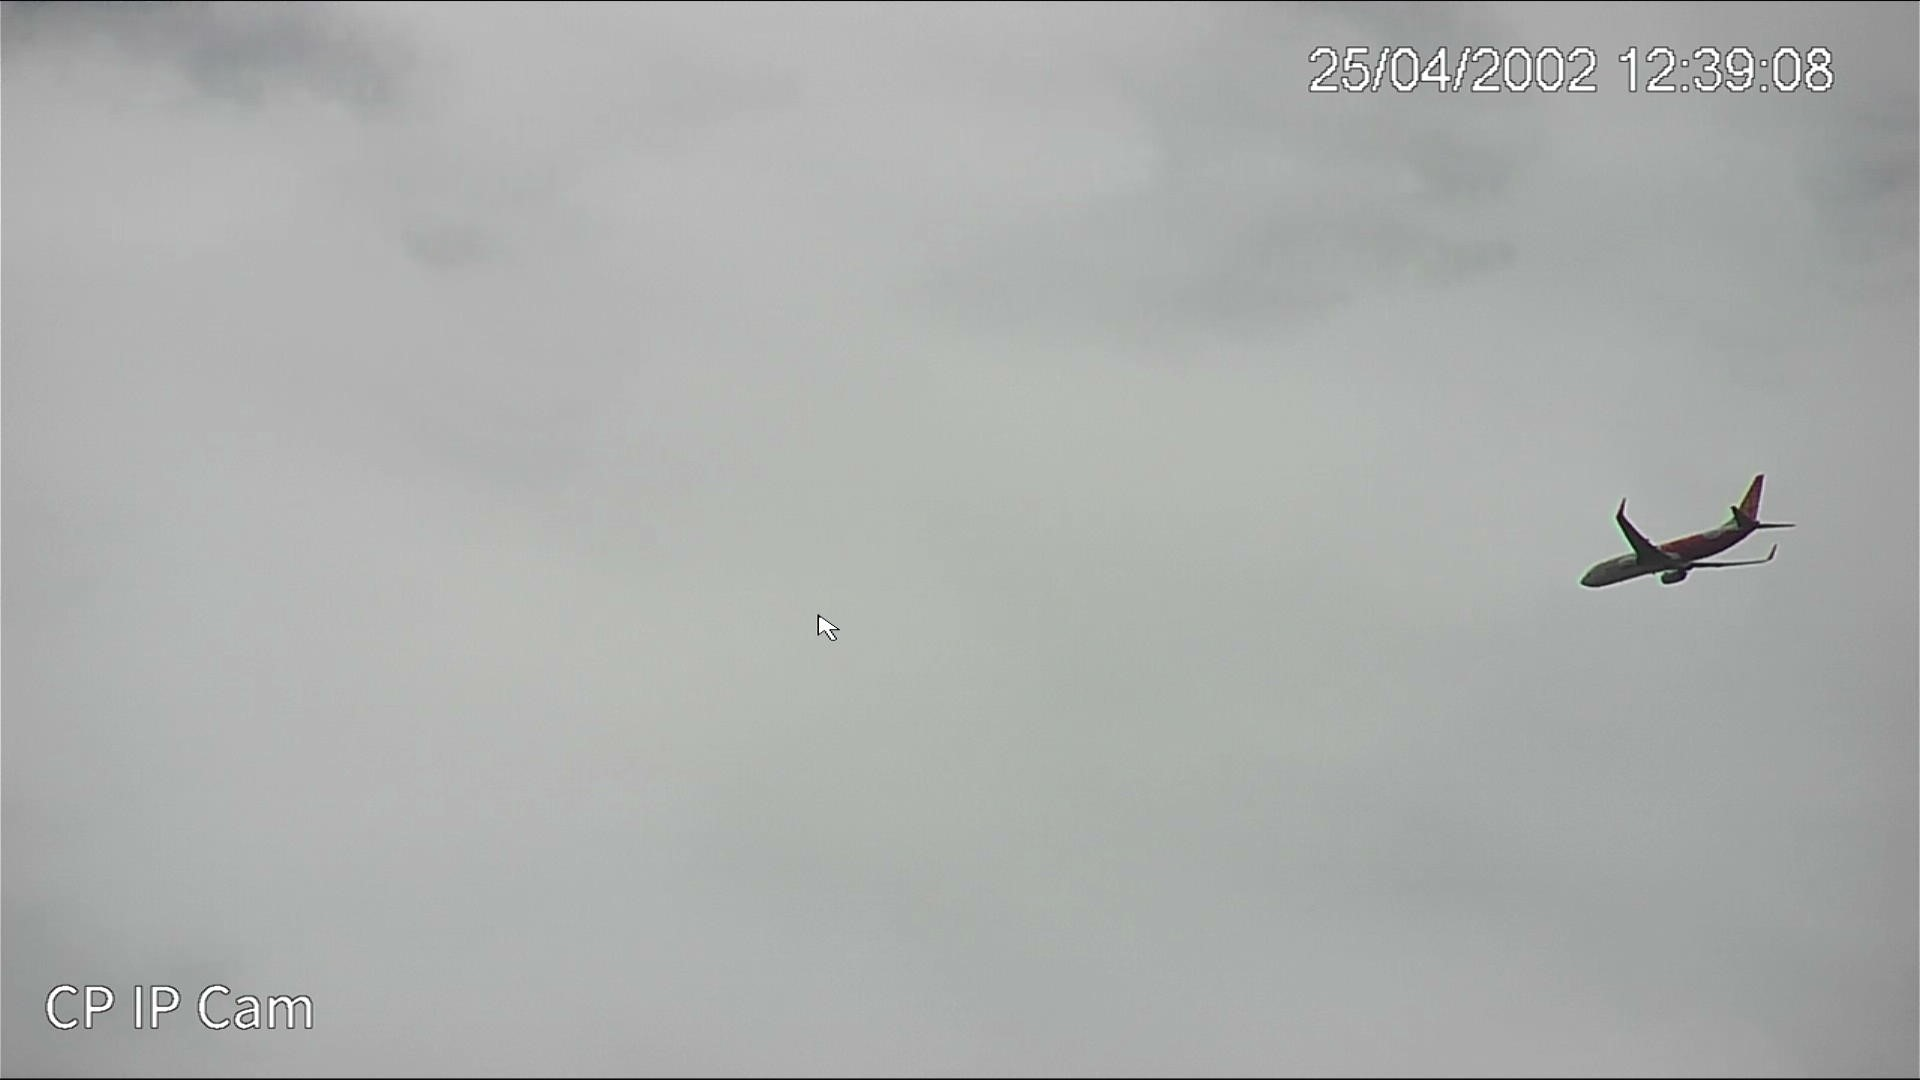SU_30: (1573, 477, 1796, 591)
